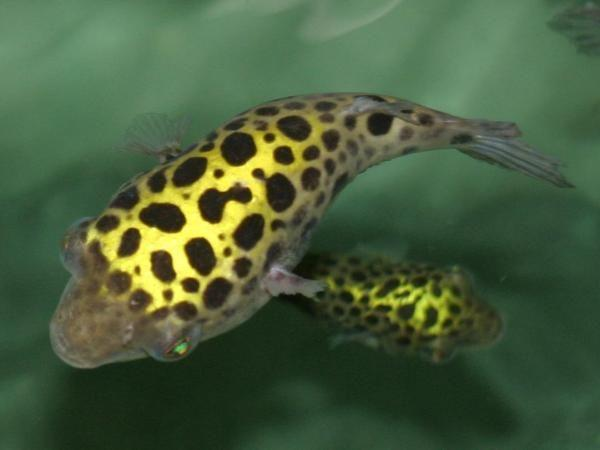Green Spotted Puffer: (48, 86, 593, 383), (292, 239, 521, 366)
